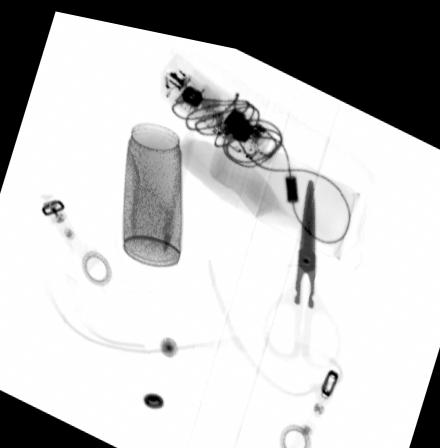Scissors: (261, 164, 342, 357)
